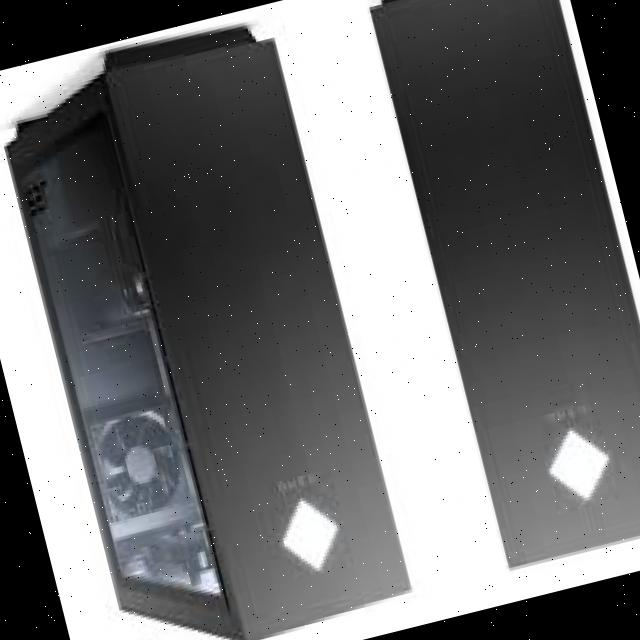Computer: (0, 6, 426, 640), (351, 0, 640, 583)
